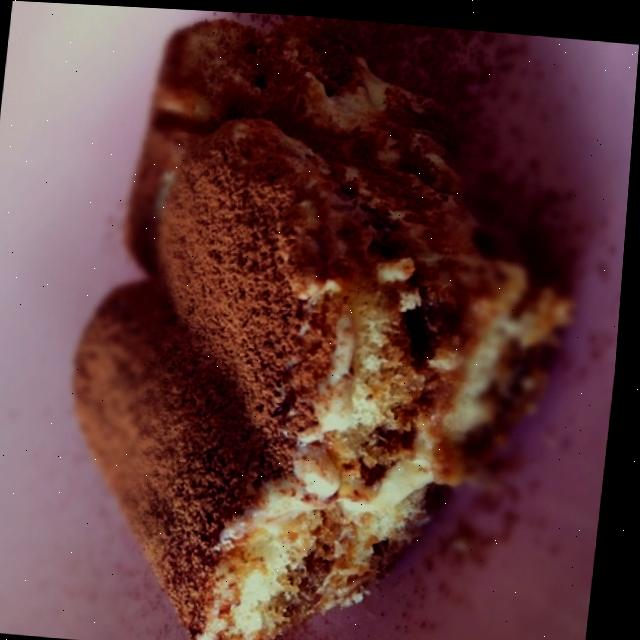蛋糕甜品: (50, 4, 601, 640)
